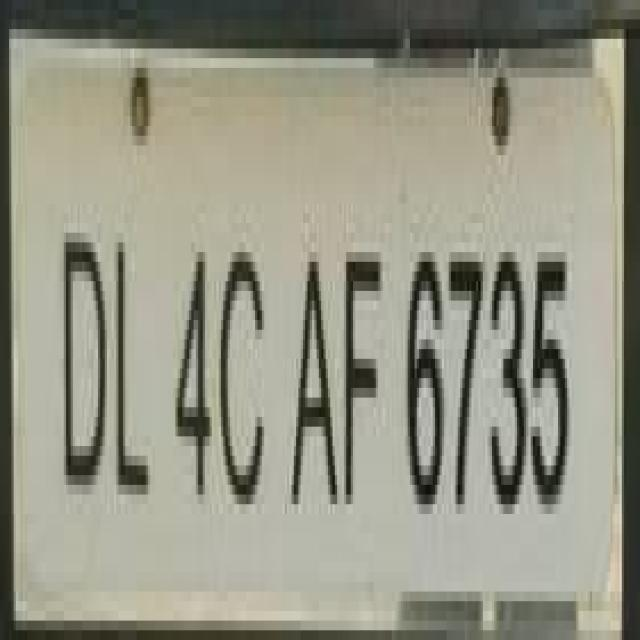license_plate: (0, 48, 610, 639)
